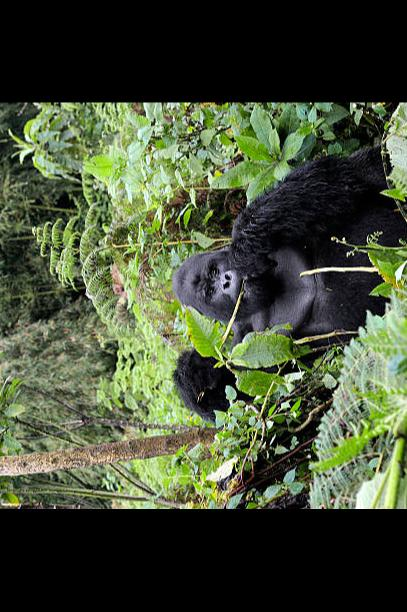goriile_montagne: (170, 132, 406, 378)
